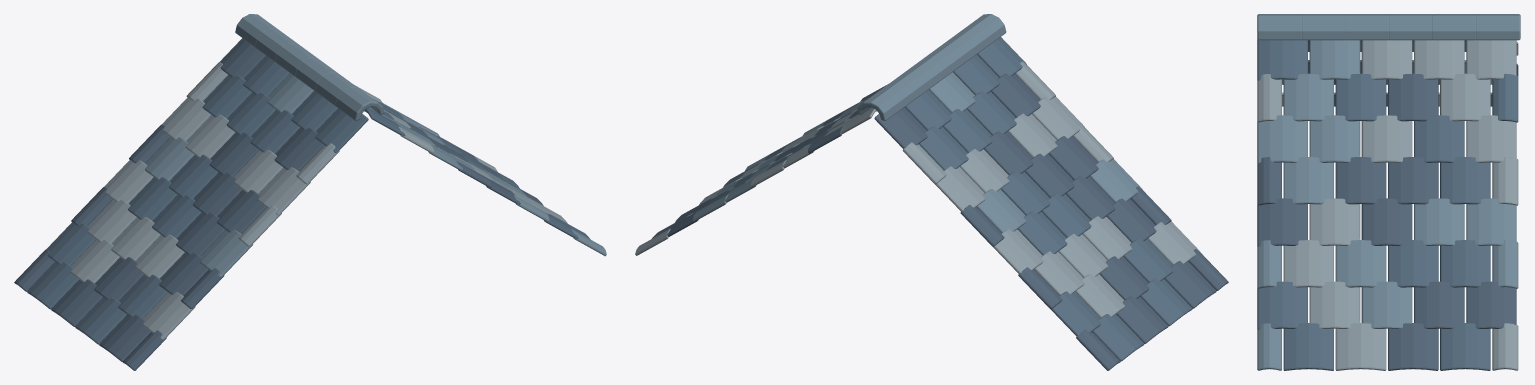
File: roof_gable_4x2m__finish.glb
3 renders of one model, left to right at view 1: azimuth 30°, elevation 25°; view 2: azimuth 150°, elevation 25°; view 3: azimuth 270°, elevation 25°, orthographic. The views are drawn at different scales.
Parts seen in each view (by area): view 1: roof_gable_4x2m__finish__mesh_00; view 2: roof_gable_4x2m__finish__mesh_00; view 3: roof_gable_4x2m__finish__mesh_00.
Boxes of the visible parts, x1,y1,x2,y2 form: roof_gable_4x2m__finish__mesh_00: (14, 14, 606, 370); roof_gable_4x2m__finish__mesh_00: (635, 14, 1228, 370); roof_gable_4x2m__finish__mesh_00: (1257, 14, 1520, 370).
Bounding box in the file's own units: 4.59 × 1.95 × 2.02.
